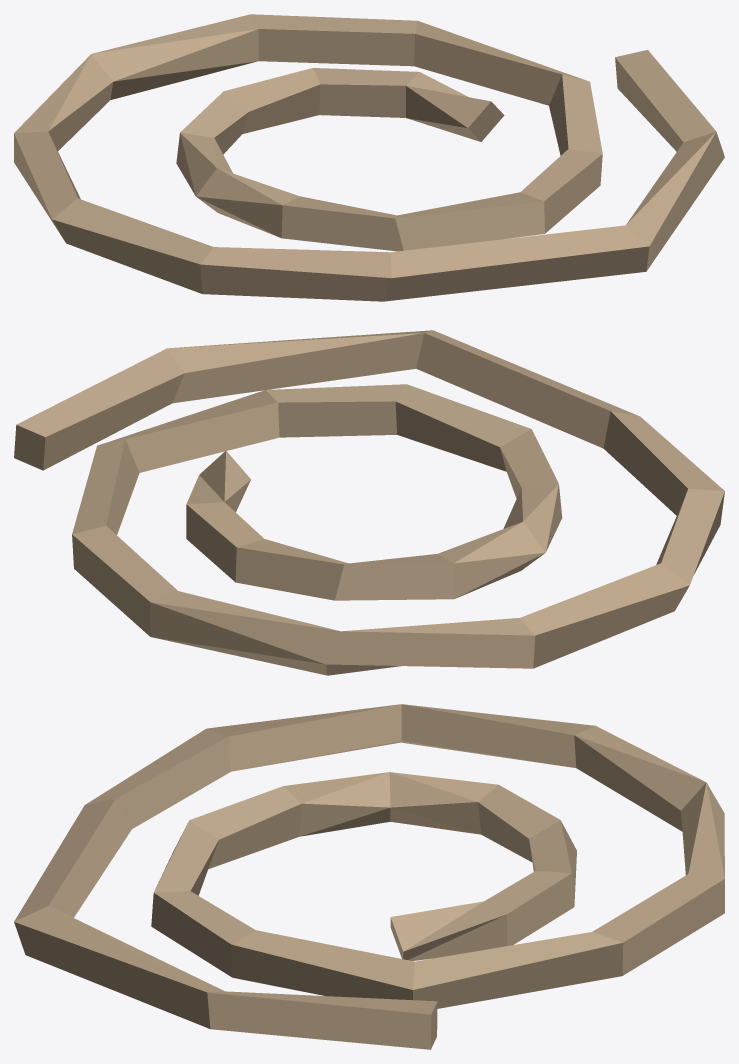
File: Rope_1.fbx
3 views of the same model, one above another, from view 1: azimuth 30°, elevation 25°; view 2: azimuth 150°, elevation 25°; view 3: azimuth 270°, elevation 25° (orthographic). The views are drawn at different scales.
Parts seen in each view (by area): view 1: Rope_1; view 2: Rope_1; view 3: Rope_1.
Boxes of the visible parts, x1,y1,x2,y2 form: Rope_1: (14, 14, 724, 301); Rope_1: (14, 330, 724, 675); Rope_1: (14, 704, 724, 1049).
Size of the model in its own units: 0.6513 by 0.0483 by 0.6091.
